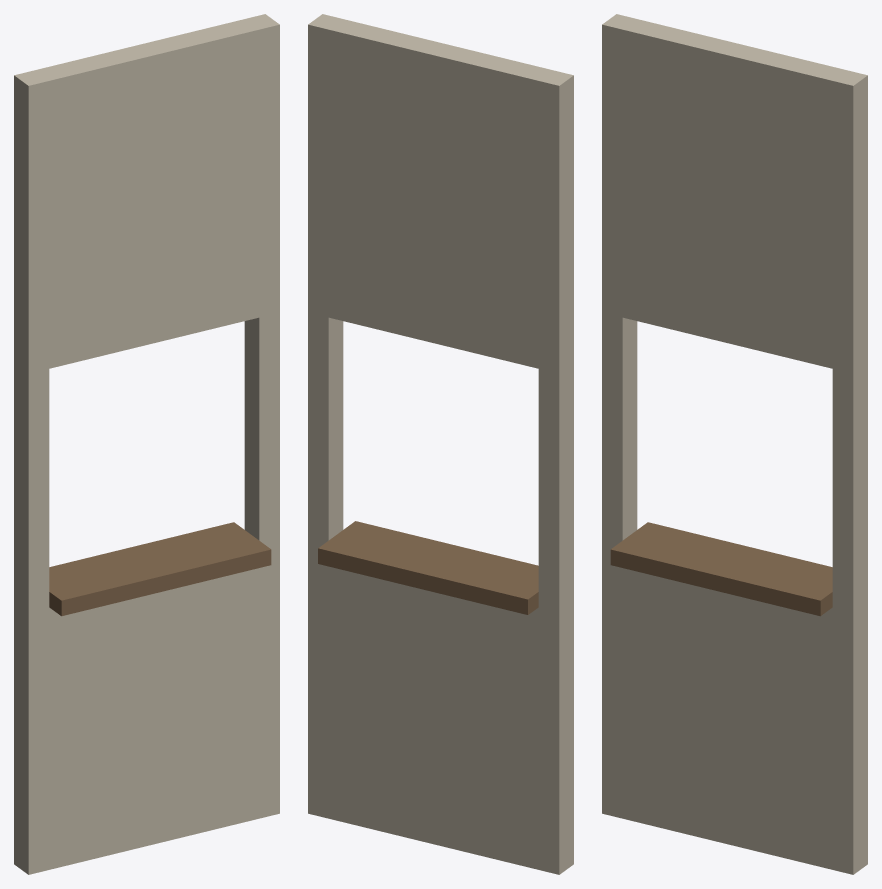
The model's file is Mesh_Wall_A2.fbx.
3 renders of one model, left to right at view 1: azimuth 30°, elevation 25°; view 2: azimuth 150°, elevation 25°; view 3: azimuth 330°, elevation 25°, orthographic.
Parts seen in each view (by area): view 1: Mesh_Wall_A2; view 2: Mesh_Wall_A2; view 3: Mesh_Wall_A2.
Boxes of the visible parts, x1,y1,x2,y2 form: Mesh_Wall_A2: (14, 14, 279, 874); Mesh_Wall_A2: (308, 14, 573, 874); Mesh_Wall_A2: (602, 14, 867, 874).
Bounding box in the file's own units: 1 × 3 × 0.2574.
